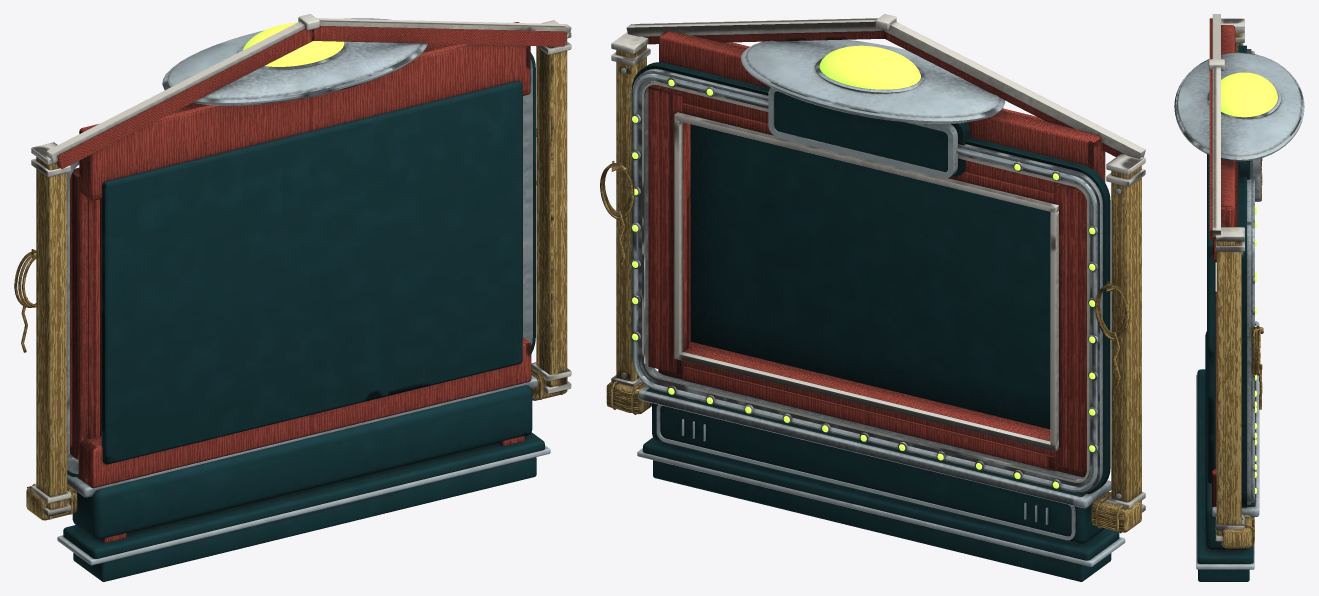
The picture shows the model from 3 angles, left to right: view 1: azimuth 30°, elevation 25°; view 2: azimuth 150°, elevation 25°; view 3: azimuth 270°, elevation 25°; orthographic projection. The views are drawn at different scales.
Visible parts, largest first — view 1: Petrol_enamel, Weathered_red_barn_boards, Farm_timber_straw_and_rope, Polished_chrome, Ivory_painted_trim, Lime_glass_glow; view 2: Petrol_enamel, Weathered_red_barn_boards, Polished_chrome, Ivory_painted_trim, Farm_timber_straw_and_rope, Lime_glass_glow; view 3: Polished_chrome, Farm_timber_straw_and_rope, Petrol_enamel, Ivory_painted_trim, Weathered_red_barn_boards, Lime_glass_glow.
Part boxes in pixels (left/top/right/bottom): Petrol_enamel: left=63, top=52, right=544, bottom=581; Weathered_red_barn_boards: left=57, top=22, right=567, bottom=542; Farm_timber_straw_and_rope: left=14, top=38, right=567, bottom=520; Polished_chrome: left=57, top=18, right=550, bottom=565; Ivory_painted_trim: left=31, top=14, right=571, bottom=515; Lime_glass_glow: left=242, top=22, right=344, bottom=66; Petrol_enamel: left=631, top=62, right=1119, bottom=581; Weathered_red_barn_boards: left=643, top=30, right=1123, bottom=544; Polished_chrome: left=621, top=39, right=1125, bottom=566; Ivory_painted_trim: left=611, top=14, right=1145, bottom=512; Farm_timber_straw_and_rope: left=600, top=45, right=1141, bottom=533; Lime_glass_glow: left=632, top=45, right=1095, bottom=488; Polished_chrome: left=1174, top=43, right=1304, bottom=569; Farm_timber_straw_and_rope: left=1216, top=33, right=1263, bottom=548; Petrol_enamel: left=1197, top=45, right=1255, bottom=581; Ivory_painted_trim: left=1208, top=14, right=1244, bottom=541; Weathered_red_barn_boards: left=1206, top=18, right=1242, bottom=550; Lime_glass_glow: left=1221, top=72, right=1277, bottom=493.
Bounding box in the file's own units: 9.78 × 8.8 × 2.41.
Materials: 6 (5 with a texture image).
